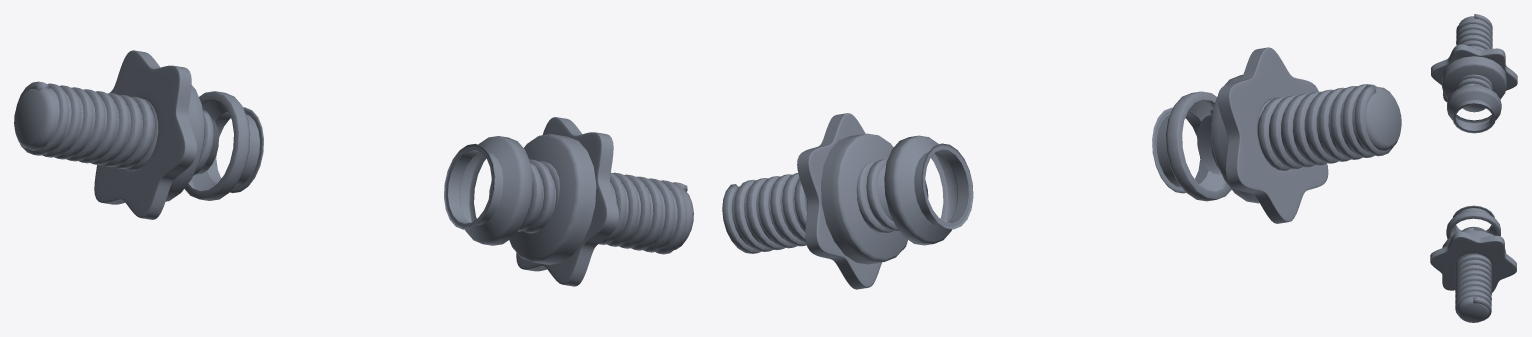
Rendered from weight_3_2.obj.
The picture shows the model from 3 angles, left to right: view 1: azimuth 30°, elevation 25°; view 2: azimuth 150°, elevation 25°; view 3: azimuth 270°, elevation 25°; orthographic projection. The views are drawn at different scales.
Size of the model in its own units: 1.32 by 0.6011 by 0.3011.
